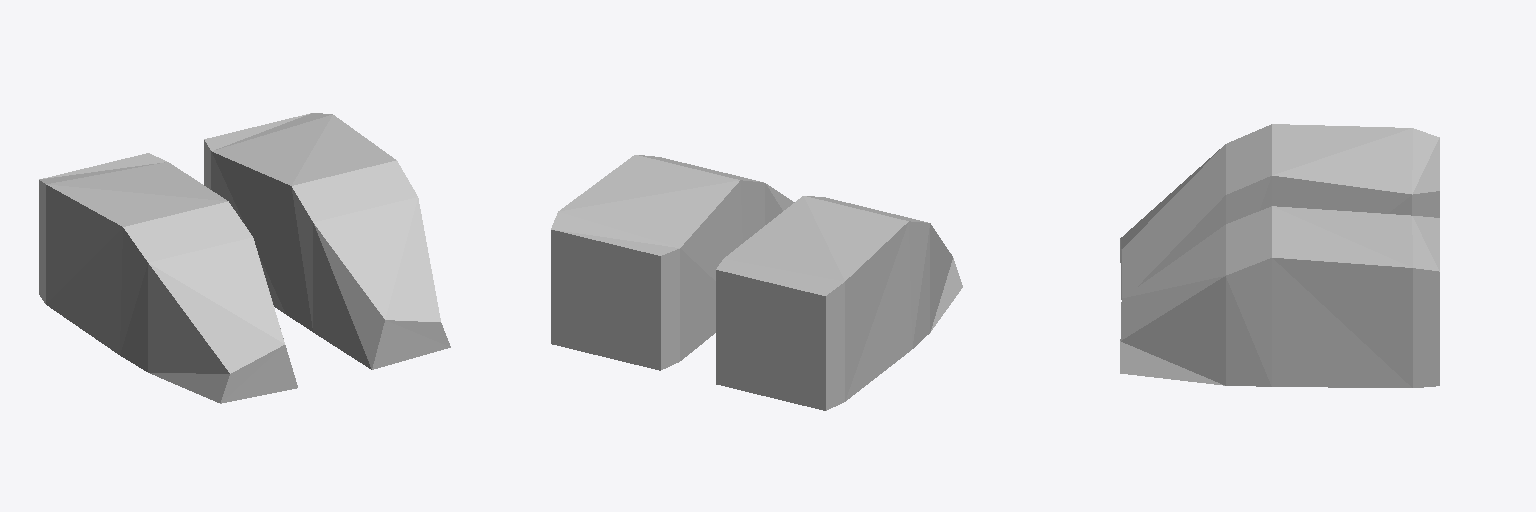
Rendered from boots.obj.
3 renders of one model, left to right at view 1: azimuth 30°, elevation 25°; view 2: azimuth 150°, elevation 25°; view 3: azimuth 270°, elevation 25°, orthographic.
Parts seen in each view (by area): view 1: Cube; view 2: Cube; view 3: Cube.
Boxes of the visible parts, box(x1,y1,x2,y2) form: Cube: box(39, 113, 450, 403); Cube: box(551, 155, 962, 410); Cube: box(1120, 124, 1439, 387).
Bounding box in the file's own units: 3.21 × 1.39 × 3.09.